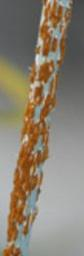Wheat: (4, 85, 56, 252)
